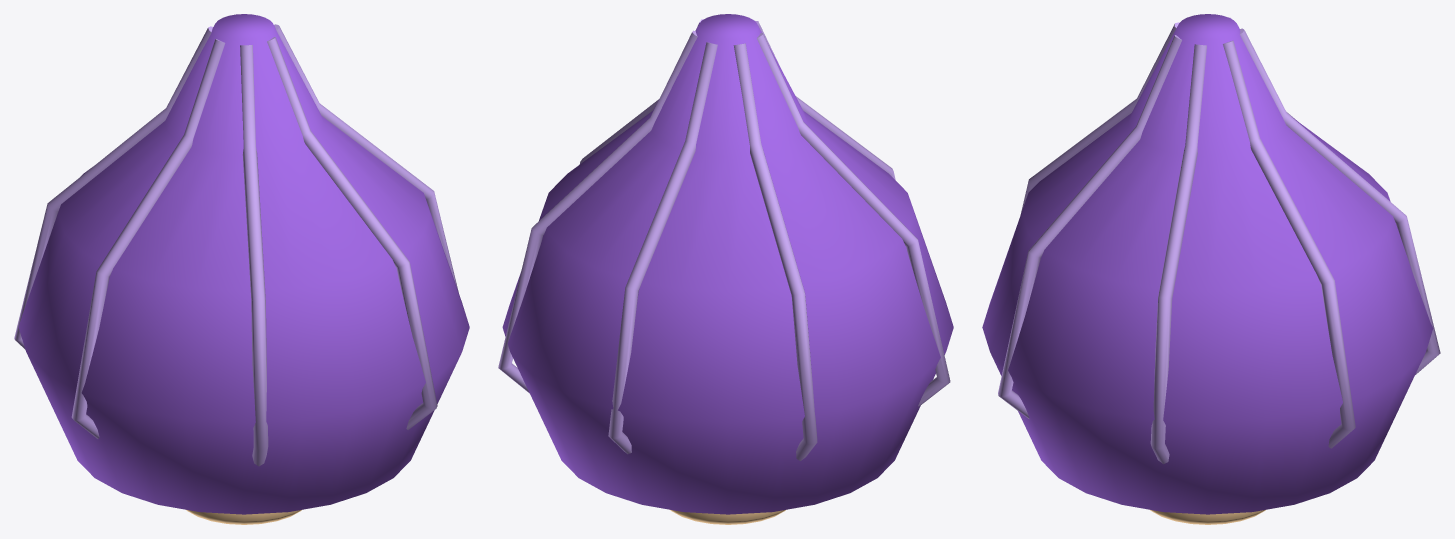
File: onion.glb
3 views of the same model, side by side, from view 1: azimuth 30°, elevation 25°; view 2: azimuth 150°, elevation 25°; view 3: azimuth 270°, elevation 25° (orthographic).
Visible parts, largest first — view 1: onion; view 2: onion; view 3: onion.
Boxes of the visible parts, left/top/right/bottom form: onion: left=14, top=14, right=469, bottom=524; onion: left=498, top=14, right=953, bottom=524; onion: left=982, top=14, right=1440, bottom=524.
Size of the model in its own units: 0.8734 by 1 by 0.8825.
1 material, 1 textured.
